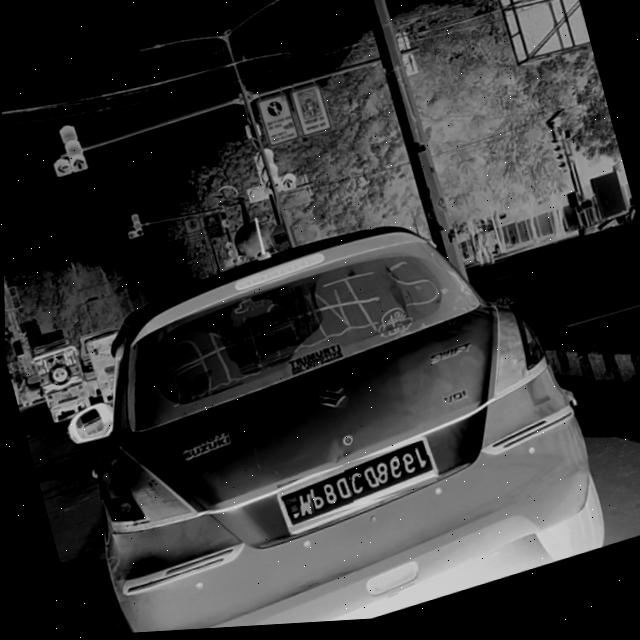0: (321, 484, 339, 509)
1: (412, 450, 426, 474)
6: (398, 455, 415, 480)
7: (333, 478, 351, 503)
8: (372, 465, 390, 490)
9: (387, 461, 403, 484)
C: (347, 474, 364, 499)
D: (360, 470, 378, 495)
IND: (281, 496, 300, 519)
Indian_registered: (279, 445, 432, 529)
M: (294, 494, 313, 521)
P: (308, 489, 325, 514)
